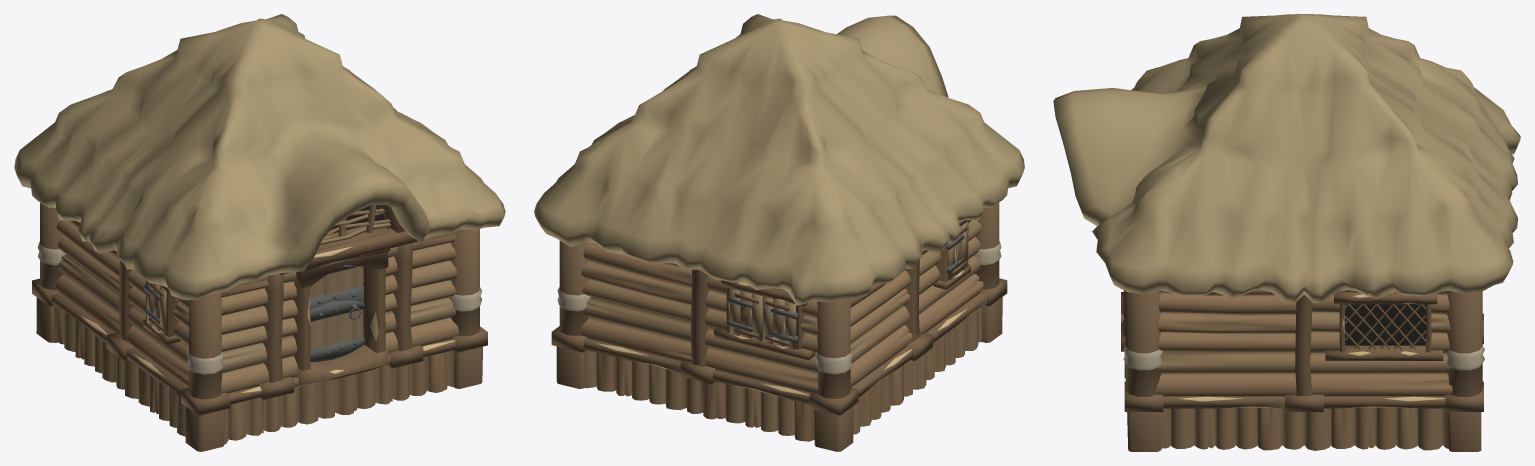
The model's file is rpgpp_ag_building_closed_05.fbx.
3 views of the same model, side by side, from view 1: azimuth 30°, elevation 25°; view 2: azimuth 150°, elevation 25°; view 3: azimuth 270°, elevation 25° (orthographic). The views are drawn at different scales.
Visible parts, largest first — view 1: rpgpp_ag_building_closed_05; view 2: rpgpp_ag_building_closed_05; view 3: rpgpp_ag_building_closed_05.
Part boxes in pixels (bbox=[...]): rpgpp_ag_building_closed_05: bbox=[14, 14, 505, 451]; rpgpp_ag_building_closed_05: bbox=[534, 14, 1024, 451]; rpgpp_ag_building_closed_05: bbox=[1053, 14, 1520, 451].
Bounding box in the file's own units: 8.1 × 7.49 × 8.74.
